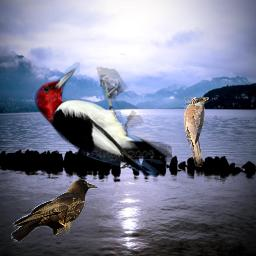Crow: (11, 177, 99, 244)
Cuckoo: (184, 97, 209, 167)
Woodpecker: (18, 62, 179, 183)
